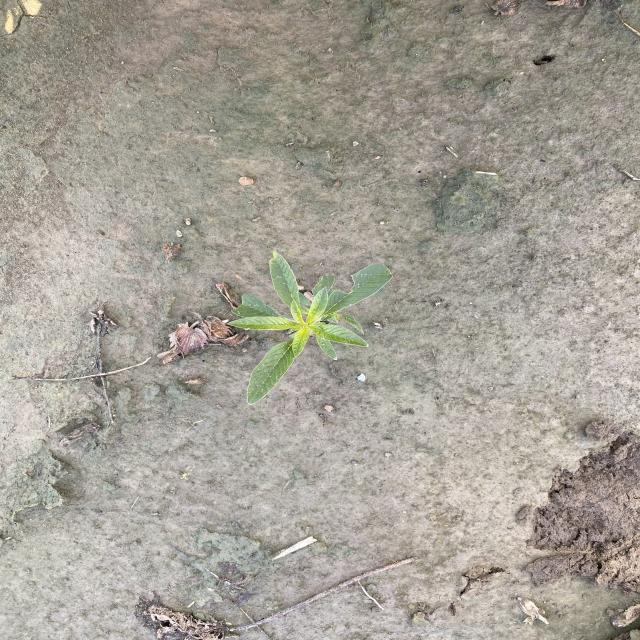Waterhemp: (224, 250, 396, 407)
